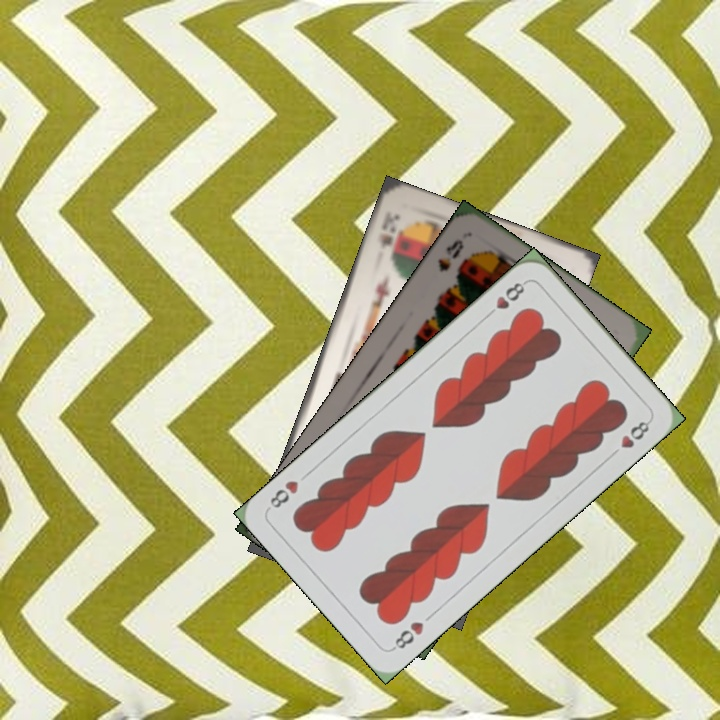H8: (481, 277, 530, 321), (388, 617, 427, 653)
S8: (434, 235, 467, 275)
SK: (375, 206, 403, 252)
